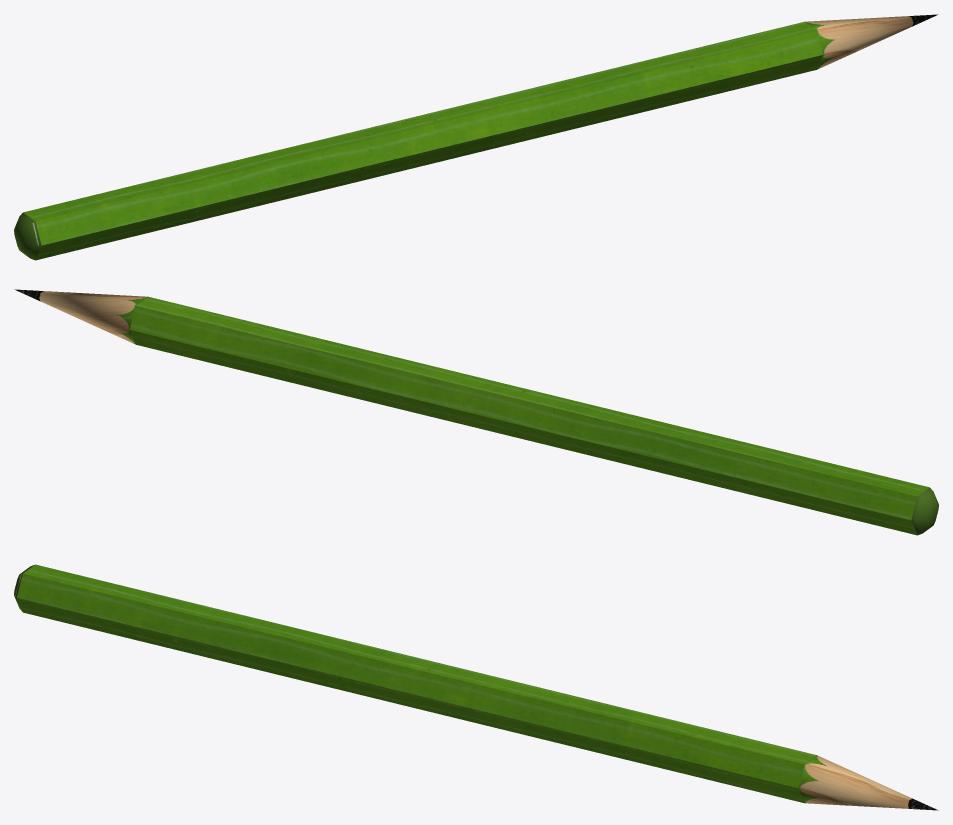
File: enpitu.fbx
3 views of the same model, one above another, from view 1: azimuth 30°, elevation 25°; view 2: azimuth 150°, elevation 25°; view 3: azimuth 330°, elevation 25° (orthographic).
Visible parts, largest first — view 1: enpitu; view 2: enpitu; view 3: enpitu.
Part boxes in pixels (bbox=[...]): enpitu: bbox=[14, 14, 938, 260]; enpitu: bbox=[14, 289, 938, 535]; enpitu: bbox=[14, 564, 938, 810].
Size of the model in its own units: 235 by 9.54 by 11.01.
Materials: 1 (1 with a texture image).
